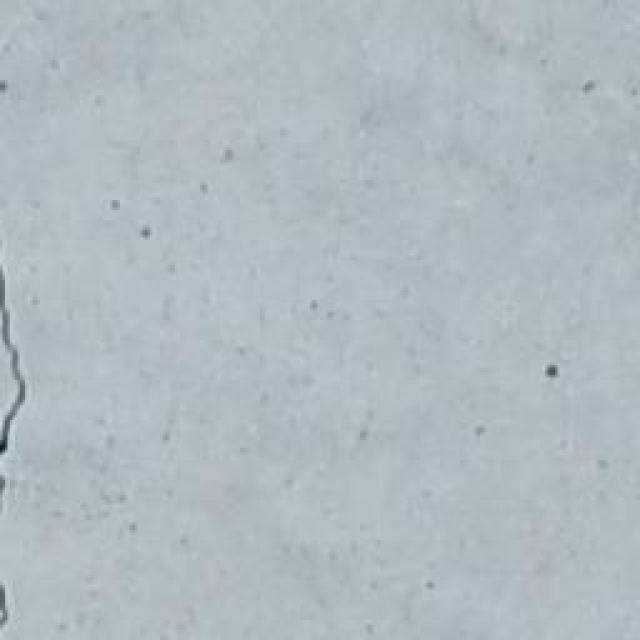concrete-crack: (0, 261, 29, 467)
